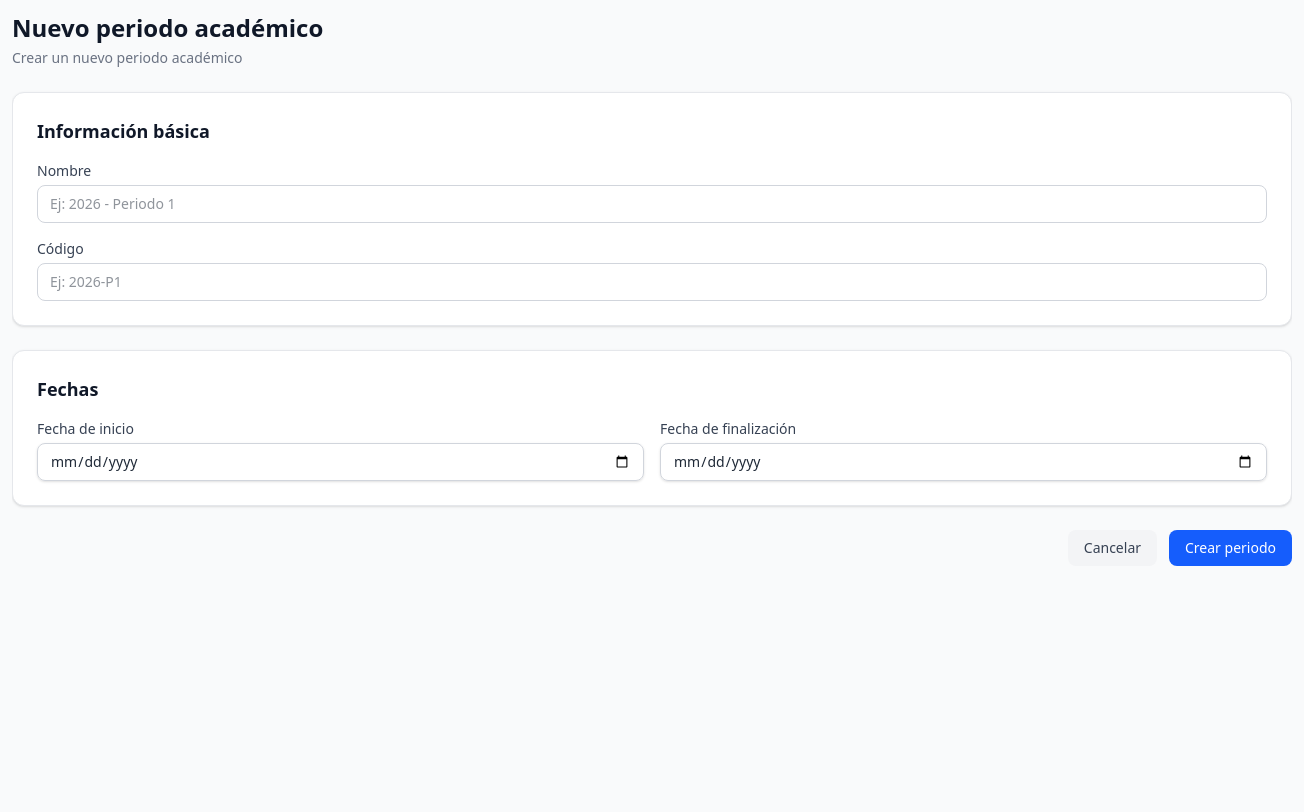
Test case: AcademicPeriodFormPage › validates required code
The width and height of the screenshot is (1304, 812).
In the field labelled "Nombre": (652, 204) [37, 185, 1267, 223], type "Test"
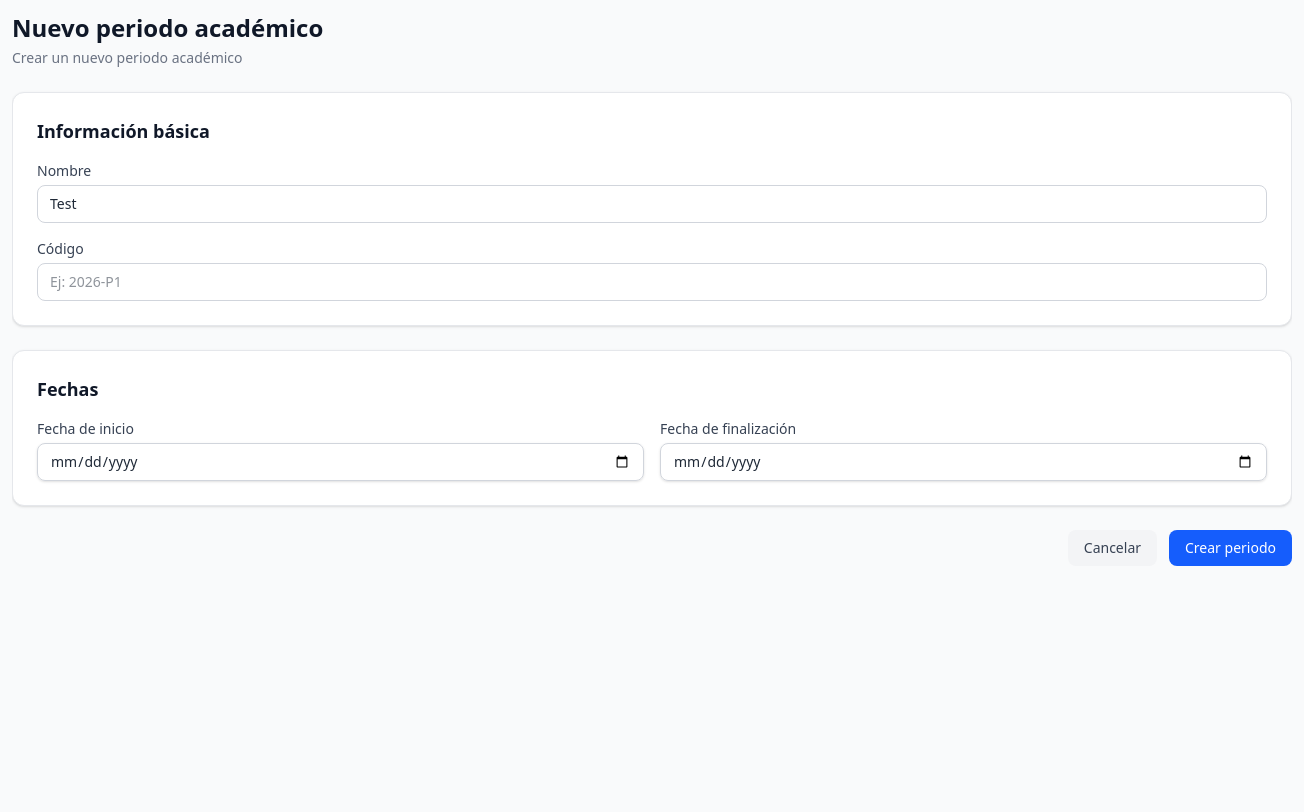
Click the button "Crear periodo": (1230, 548) [1169, 530, 1292, 566]
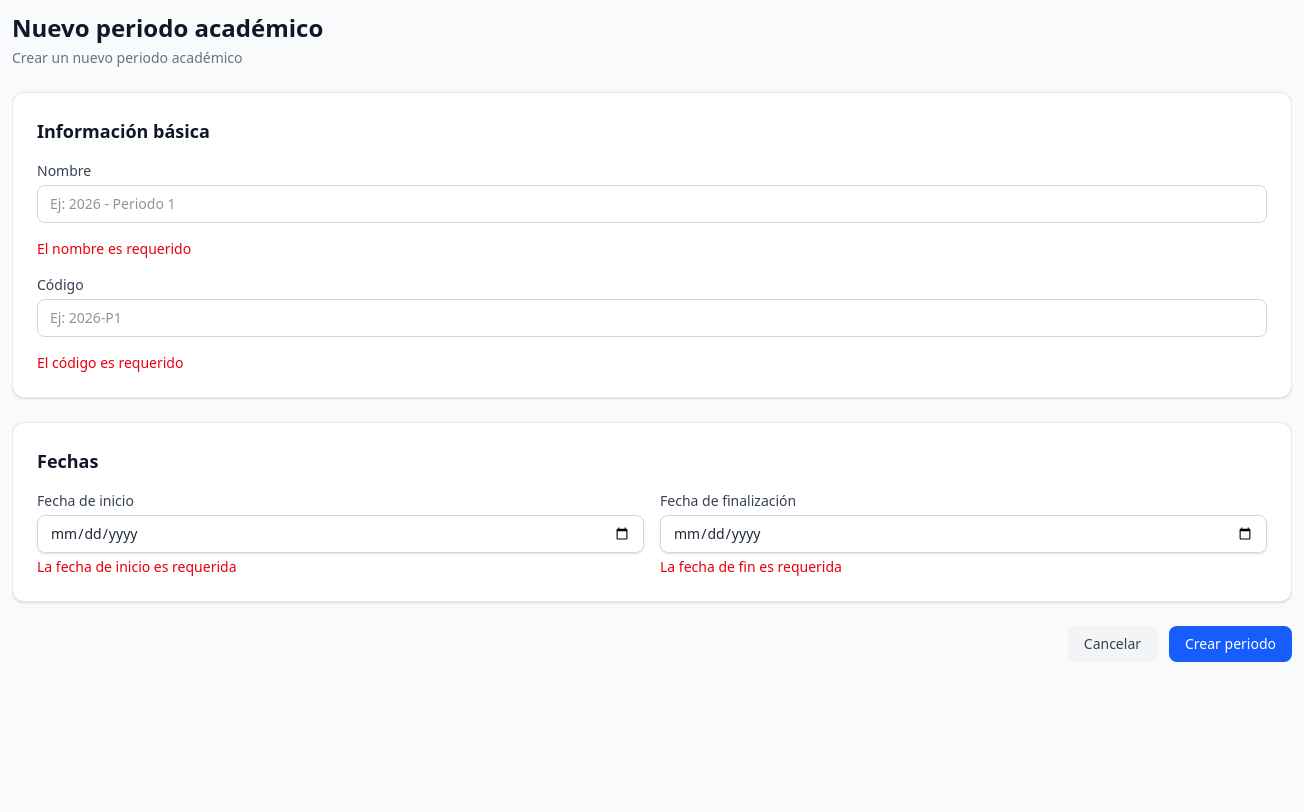
Expected: the text "El código es requerido" is shown, [37, 353, 184, 372]
